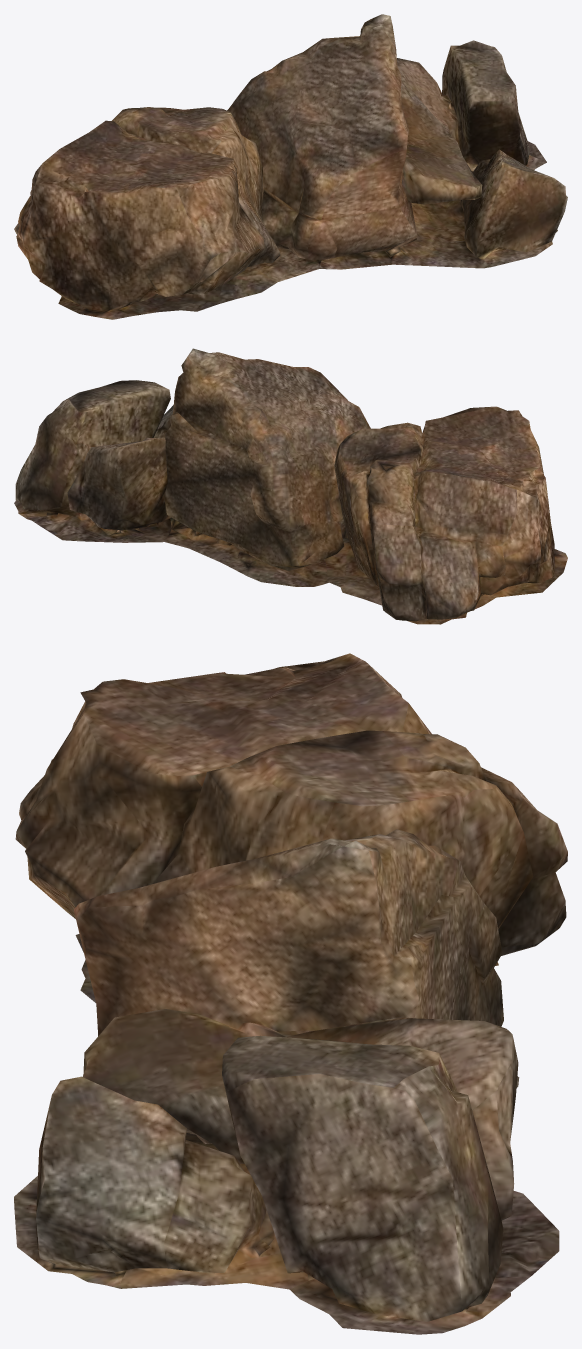
File: namaqualand_boulder_02.glb
3 views of the same model, one above another, from view 1: azimuth 30°, elevation 25°; view 2: azimuth 150°, elevation 25°; view 3: azimuth 270°, elevation 25° (orthographic). The views are drawn at different scales.
Visible parts, largest first — view 1: boulder_02; view 2: boulder_02; view 3: boulder_02.
Part boxes in pixels (x1,y1,x2,y2): boulder_02: [14, 14, 567, 319]; boulder_02: [14, 348, 567, 624]; boulder_02: [14, 653, 567, 1334].
Bounding box in the file's own units: 2.52 × 0.8804 × 1.23.
1 material, 1 textured.
